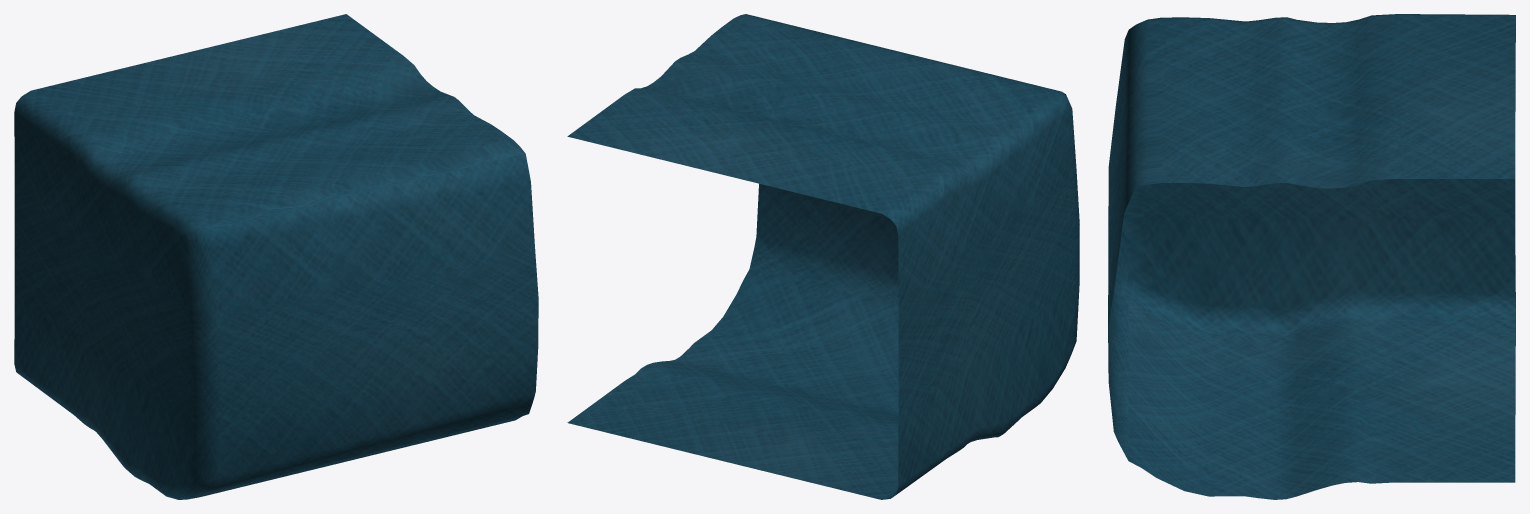
The model's file is tl_flyR.FBX.
3 renders of one model, left to right at view 1: azimuth 30°, elevation 25°; view 2: azimuth 150°, elevation 25°; view 3: azimuth 270°, elevation 25°, orthographic. The views are drawn at different scales.
Parts seen in each view (by area): view 1: tl_endcurveR_FINAL; view 2: tl_endcurveR_FINAL; view 3: tl_endcurveR_FINAL.
Part boxes in pixels (x1=…): tl_endcurveR_FINAL: x1=14, y1=14, x2=538, y2=499; tl_endcurveR_FINAL: x1=567, y1=14, x2=1079, y2=499; tl_endcurveR_FINAL: x1=1108, y1=14, x2=1515, y2=499.
Bounding box in the file's own units: 100 × 87.33 × 101.
